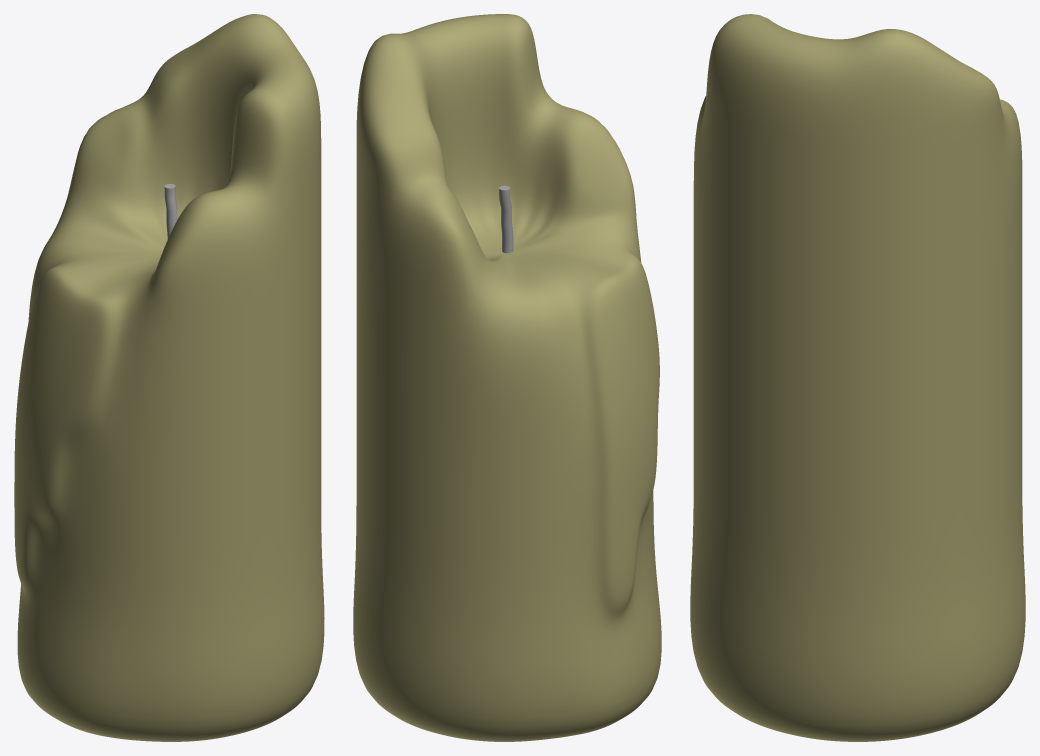
File: bougie.fbx
The picture shows the model from 3 angles, left to right: view 1: azimuth 30°, elevation 25°; view 2: azimuth 150°, elevation 25°; view 3: azimuth 270°, elevation 25°; orthographic projection. The views are drawn at different scales.
Visible parts, largest first — view 1: polySurface36, polySurface44; view 2: polySurface36, polySurface44; view 3: polySurface36.
Boxes of the visible parts, bbox=[...] form: polySurface36: bbox=[14, 14, 324, 741]; polySurface44: bbox=[164, 184, 177, 239]; polySurface36: bbox=[353, 14, 661, 741]; polySurface44: bbox=[499, 185, 513, 253]; polySurface36: bbox=[690, 14, 1025, 741].
Bounding box in the file's own units: 0.1891 × 0.4268 × 0.1822.
